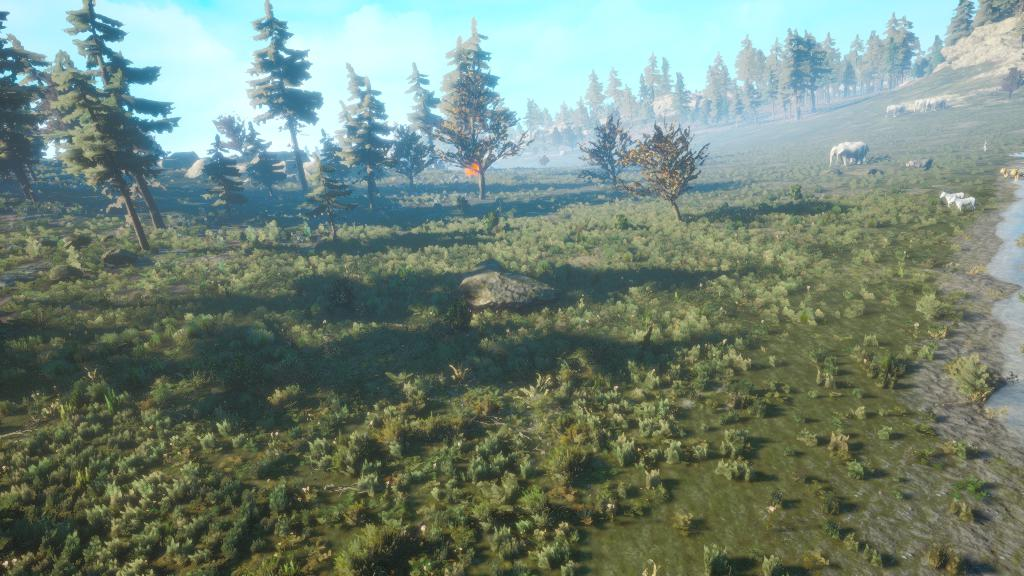Fire: (463, 159, 483, 178)
elephant: (830, 140, 869, 167), (885, 101, 907, 120), (925, 96, 948, 114), (913, 97, 934, 112)
hippopotamus: (902, 156, 935, 172)
human: (981, 139, 989, 154)
lion: (999, 166, 1020, 180), (1009, 169, 1023, 182)
zebra: (938, 188, 965, 207), (948, 196, 977, 212)
